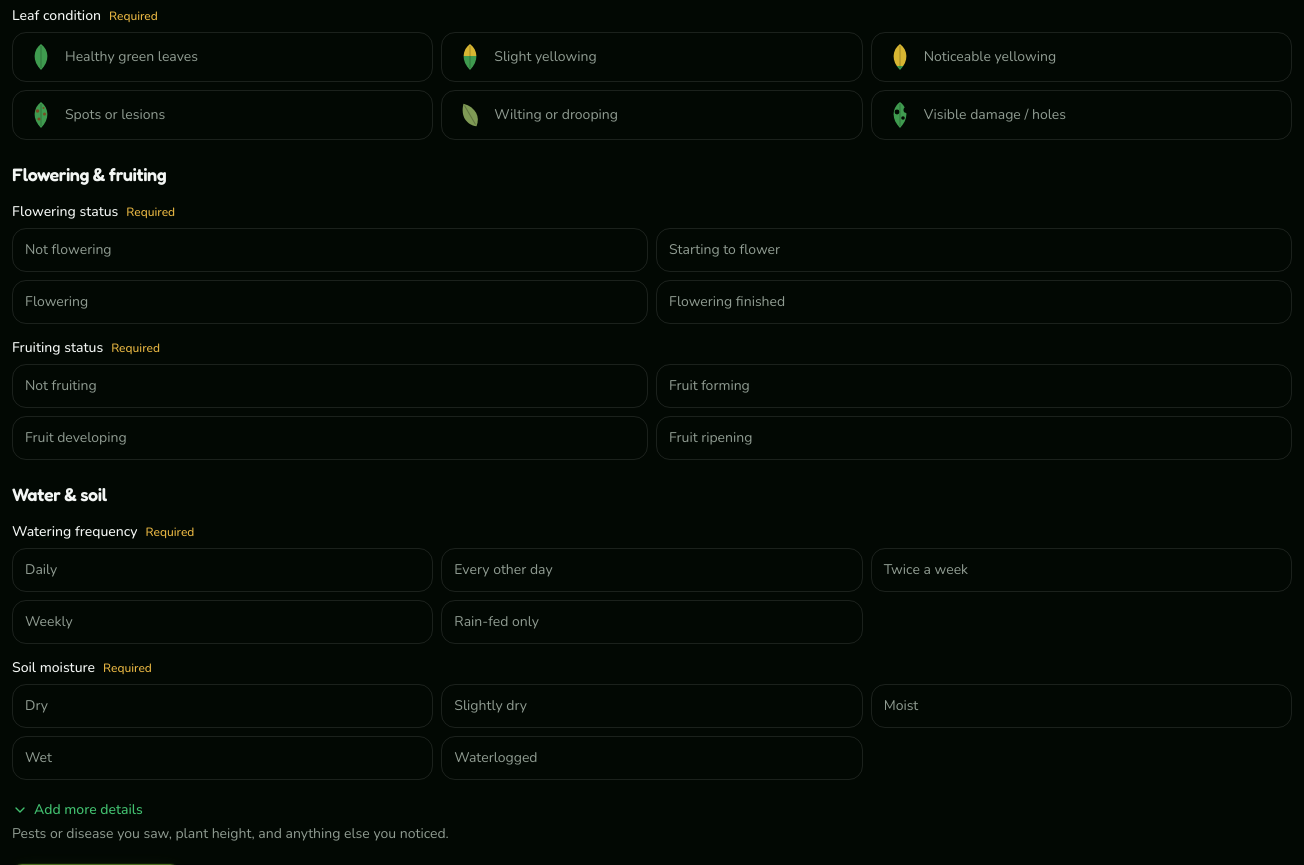
Scenario: Weekly assessment: less to fill in › keeps symptoms, height and notes behind 'Add more details' until asked for
(page scrolled)
Expected: the element "Pests you have seen" is not shown
Click the button "Add more details".
click(77, 810)  # box [12,800,143,820]
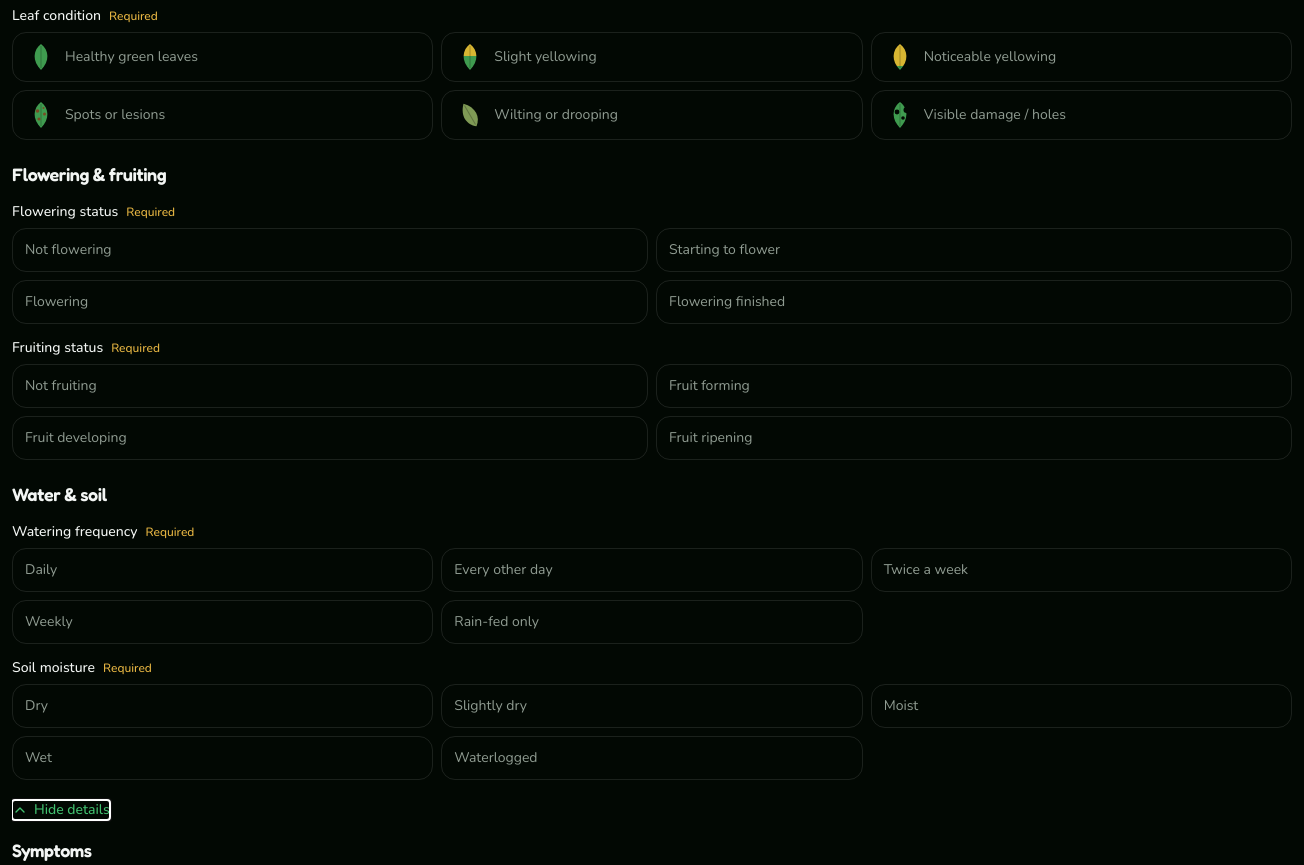
Expected: the button "Hide details" is expanded, [12,800,110,820]
